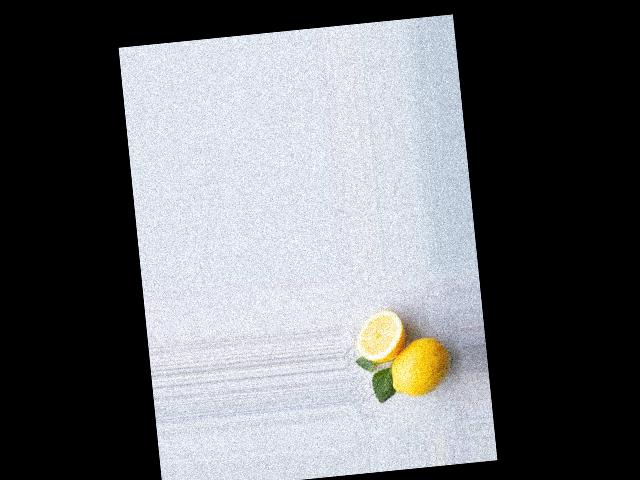lemon: (373, 332, 463, 403)
